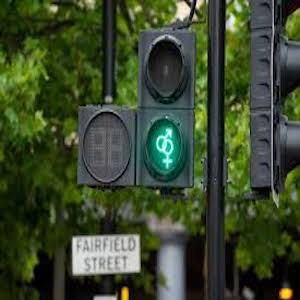green: (150, 126, 178, 170)
